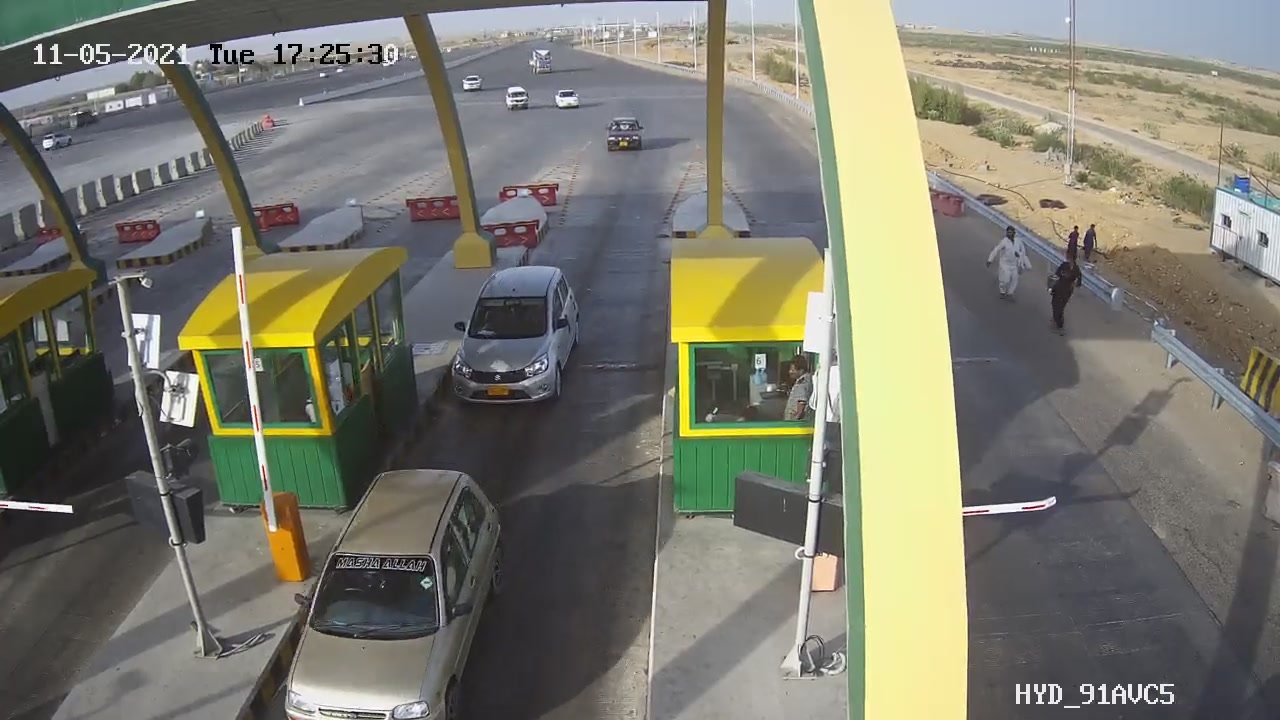F1: (434, 249, 600, 422)
